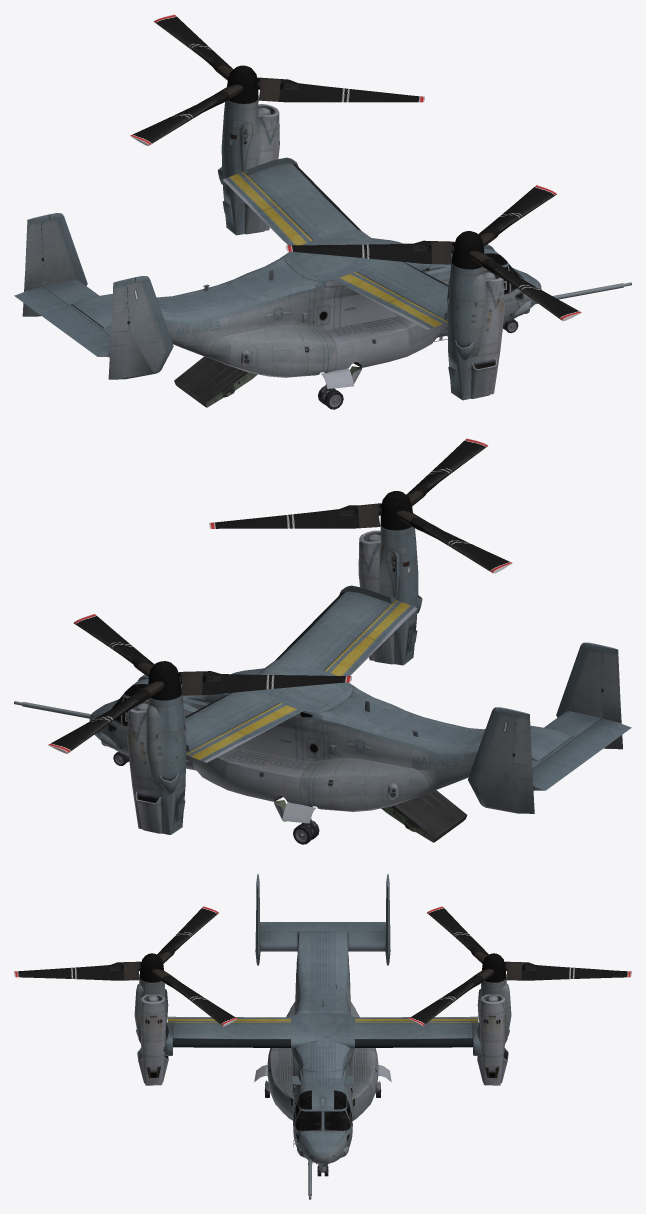
Rendered from V-22 Osprey.glb.
The picture shows the model from 3 angles, top to bottom: view 1: azimuth 30°, elevation 25°; view 2: azimuth 150°, elevation 25°; view 3: azimuth 270°, elevation 25°; orthographic projection. The views are drawn at different scales.
Parts seen in each view (by area): view 1: Object_4.009, Object_3.005; view 2: Object_4.009, Object_3.005; view 3: Object_4.009, Object_3.005, Object_2.004.
Part boxes in pixels (x1,y1,x2,y2): Object_4.009: (14, 157, 631, 409); Object_3.005: (130, 14, 581, 400); Object_4.009: (14, 585, 631, 844); Object_3.005: (48, 438, 512, 834); Object_4.009: (163, 874, 482, 1199); Object_3.005: (14, 906, 631, 1163); Object_2.004: (293, 1090, 352, 1140).
Size of the model in its own units: 34.72 by 12.79 by 43.34.
3 materials, 3 textured.
